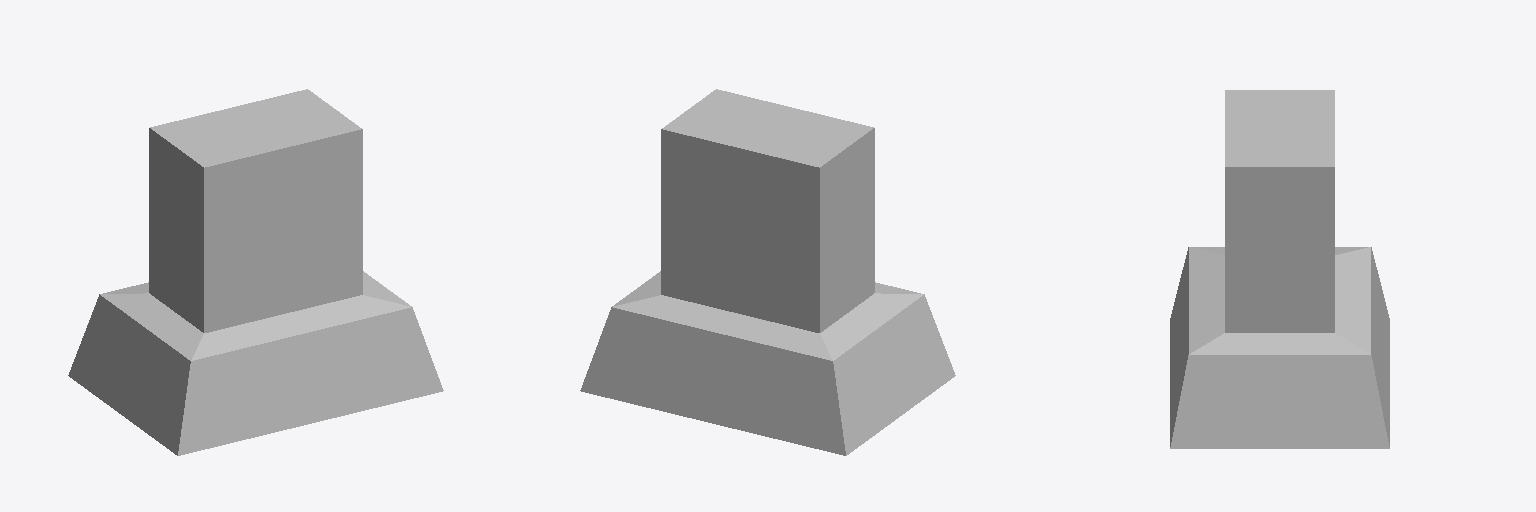
File: cemetary_object_6_001.obj
3 views of the same model, side by side, from view 1: azimuth 30°, elevation 25°; view 2: azimuth 150°, elevation 25°; view 3: azimuth 270°, elevation 25° (orthographic).
Parts seen in each view (by area): view 1: GraveStone_grave3; view 2: GraveStone_grave3; view 3: GraveStone_grave3.
Part boxes in pixels (left/top/right/bottom): GraveStone_grave3: left=68, top=89, right=443, bottom=455; GraveStone_grave3: left=580, top=89, right=955, bottom=455; GraveStone_grave3: left=1170, top=90, right=1389, bottom=448.
Bounding box in the file's own units: 1.68 × 1.54 × 1.2.